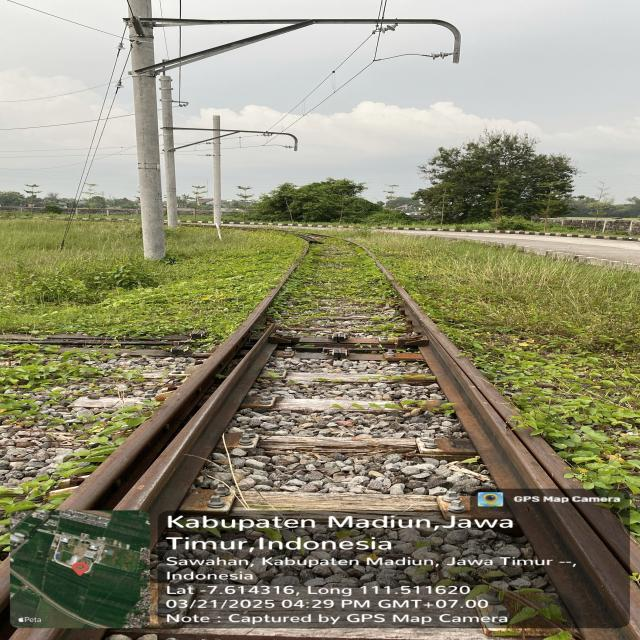rail-detection: (376, 261, 640, 640), (59, 286, 280, 510), (114, 326, 275, 545)
